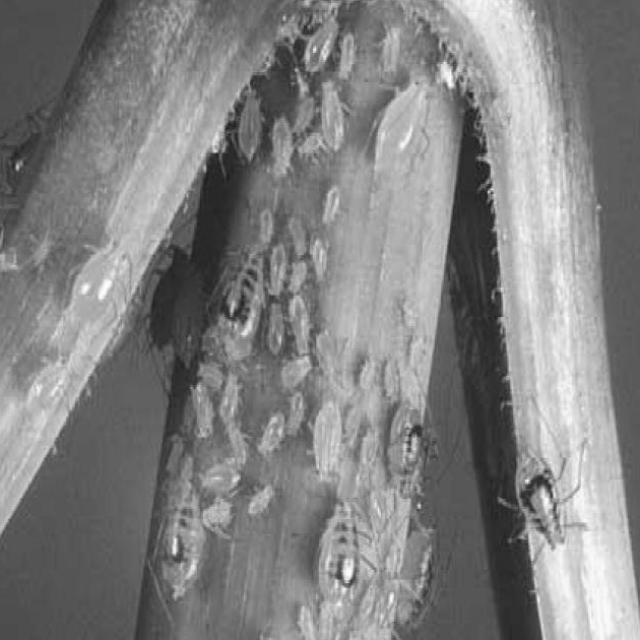Aphids: (154, 229, 440, 639), (232, 8, 458, 228), (3, 206, 141, 422), (495, 402, 595, 572)
